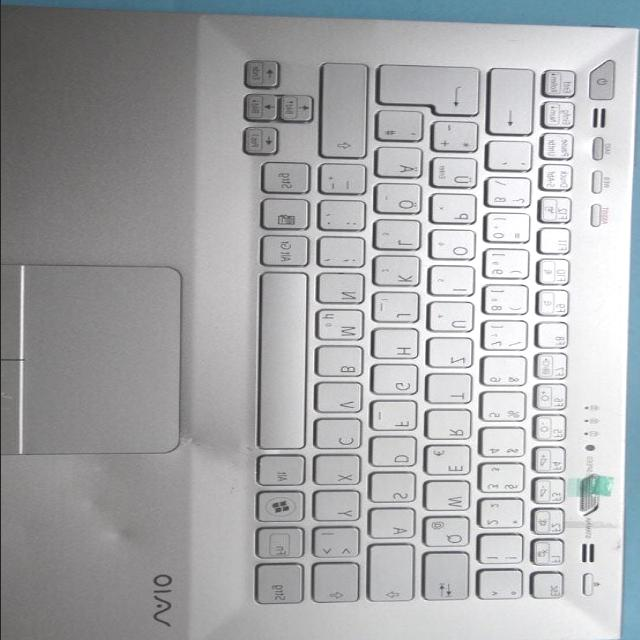0: (489, 216, 537, 247)
1: (482, 537, 528, 567)
2: (482, 501, 530, 532)
3: (483, 466, 529, 497)
4: (483, 431, 531, 461)
5: (484, 395, 530, 425)
6: (486, 360, 532, 390)
7: (486, 323, 532, 354)
8: (487, 288, 533, 319)
9: (487, 252, 535, 283)
a: (372, 511, 420, 542)
accent: (490, 144, 538, 175)
ae: (378, 150, 426, 182)
alt-left: (260, 458, 310, 490)
altgr-right: (263, 238, 313, 270)
b: (319, 349, 367, 381)
c: (318, 422, 366, 453)
caret: (482, 573, 528, 603)
comma: (322, 239, 370, 271)
d: (374, 440, 422, 471)
del: (491, 72, 539, 138)
e: (427, 448, 475, 479)
enter: (381, 68, 484, 120)
f: (374, 403, 422, 434)
g: (375, 368, 423, 399)
h: (375, 332, 423, 362)
hash: (379, 114, 427, 145)
i: (432, 268, 480, 299)
j: (376, 295, 424, 326)
k: (377, 259, 425, 290)
keyboard: (238, 47, 608, 629)
l: (378, 223, 426, 254)
less: (315, 530, 365, 562)
m: (319, 312, 369, 344)
minus: (323, 166, 371, 198)
n: (320, 277, 370, 308)
o: (433, 233, 481, 264)
oe: (378, 186, 426, 218)
p: (434, 196, 482, 228)
plus: (435, 124, 483, 156)
point: (321, 203, 371, 235)
q: (426, 520, 474, 551)
r: (429, 412, 477, 443)
s: (372, 476, 420, 506)
shift-left: (316, 567, 364, 607)
shift-lock: (371, 547, 419, 606)
shift-right: (324, 65, 375, 162)
space: (261, 276, 313, 454)
ss: (489, 180, 537, 211)
strg-left: (259, 567, 309, 609)
strg-right: (265, 165, 315, 197)
t: (430, 377, 478, 407)
tab: (427, 556, 475, 604)
u: (431, 305, 479, 336)
ue: (434, 160, 482, 192)
v: (319, 385, 367, 416)
w: (428, 484, 476, 515)
x: (317, 458, 365, 489)
y: (317, 493, 365, 525)
z: (430, 341, 478, 371)
